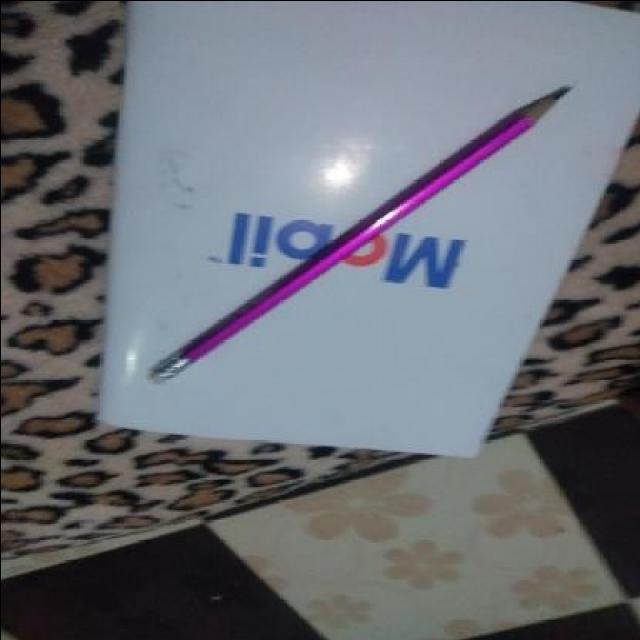Pencil: (508, 75, 580, 131)
